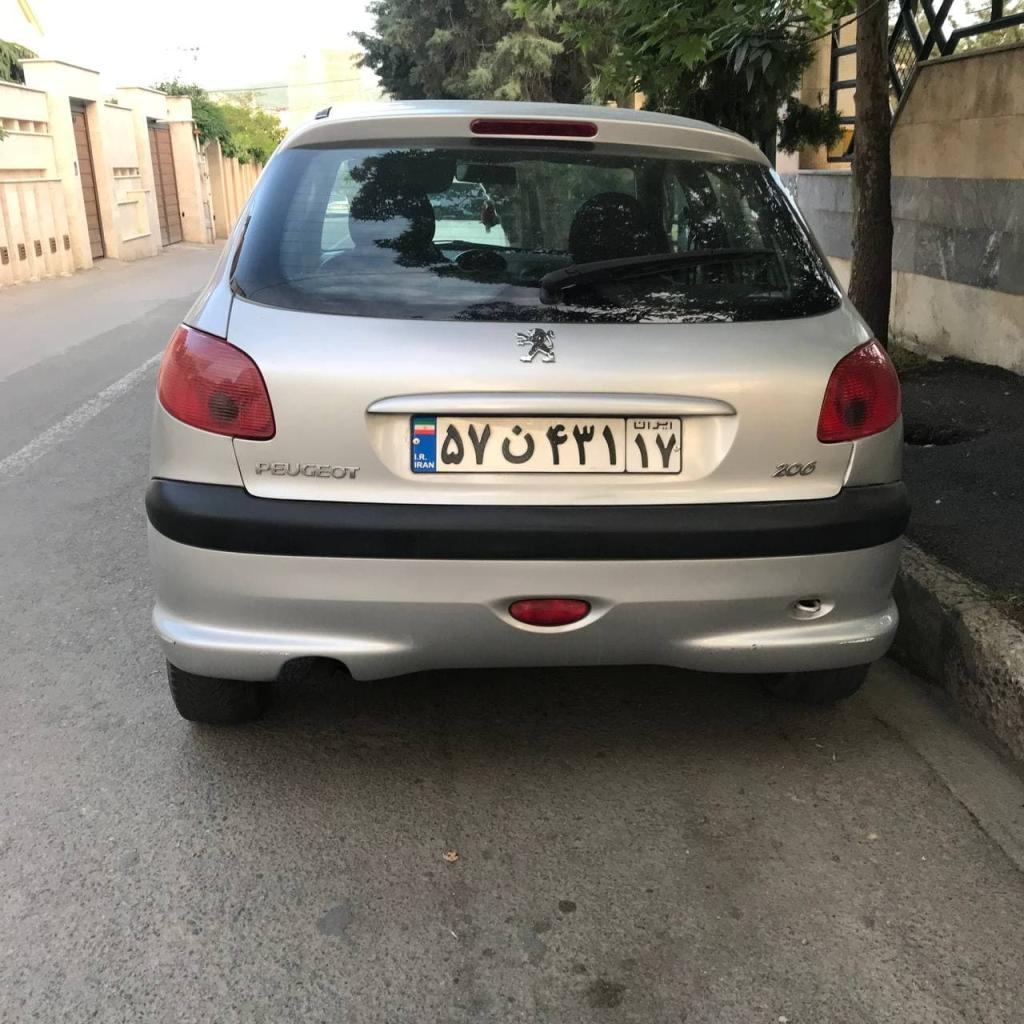Plates: (411, 415, 681, 473)
